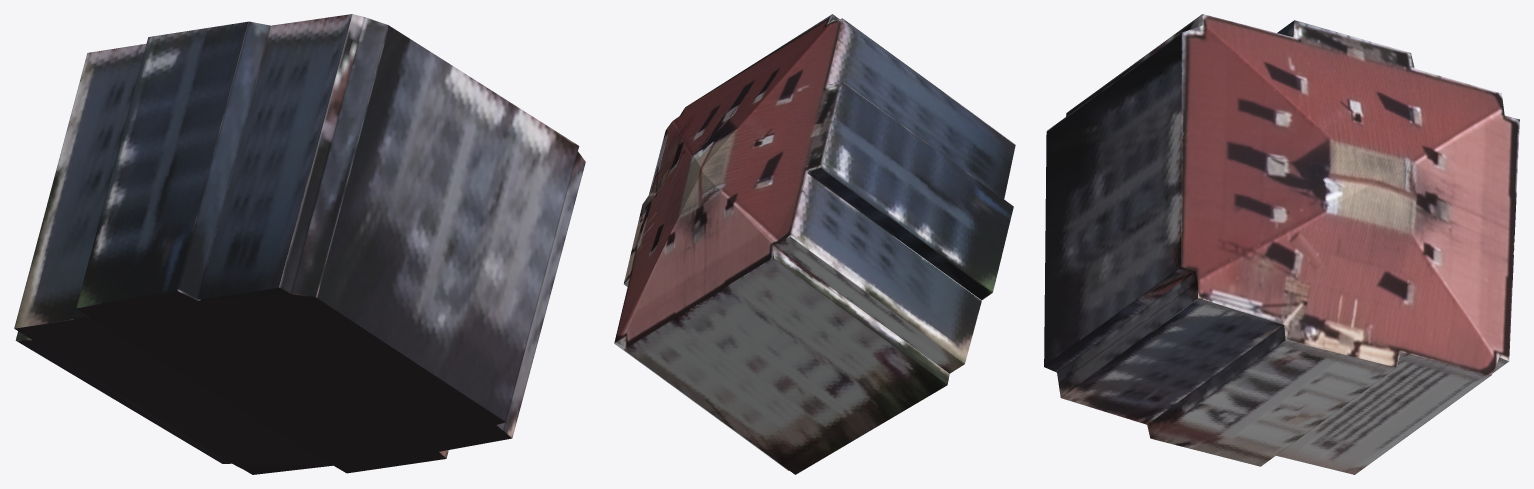
3 renders of one model, left to right at view 1: azimuth 30°, elevation 25°; view 2: azimuth 150°, elevation 25°; view 3: azimuth 270°, elevation 25°, orthographic. The views are drawn at different scales.
Size of the model in its own units: 35.22 by 36.47 by 33.63.
1 material, 1 textured.
